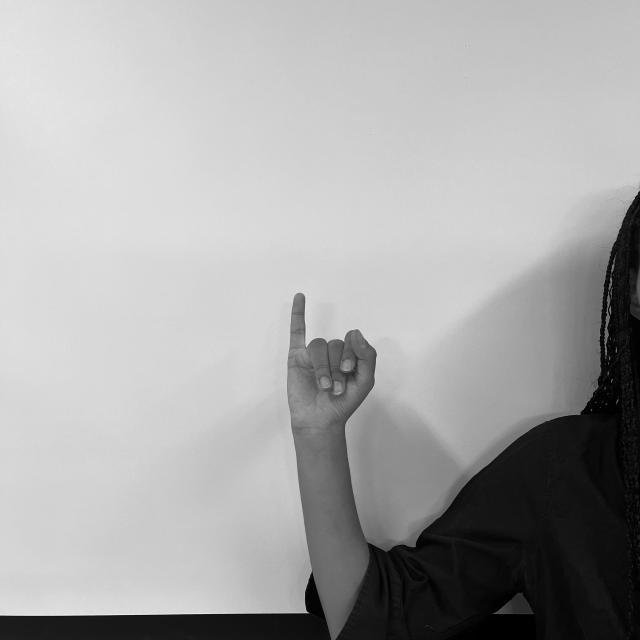Letra I: (285, 289, 380, 436)
